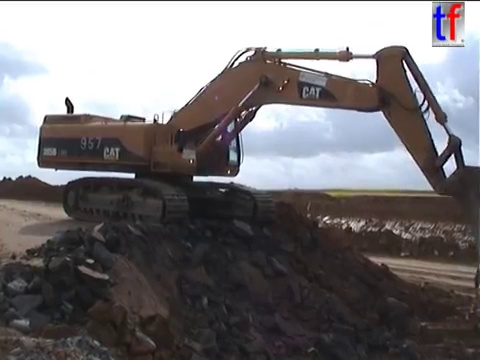excavator: (33, 43, 480, 291)
